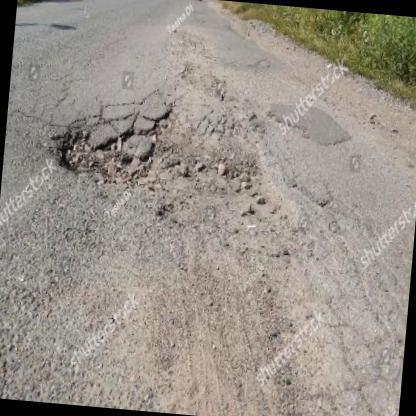pothole: (54, 105, 306, 242)
